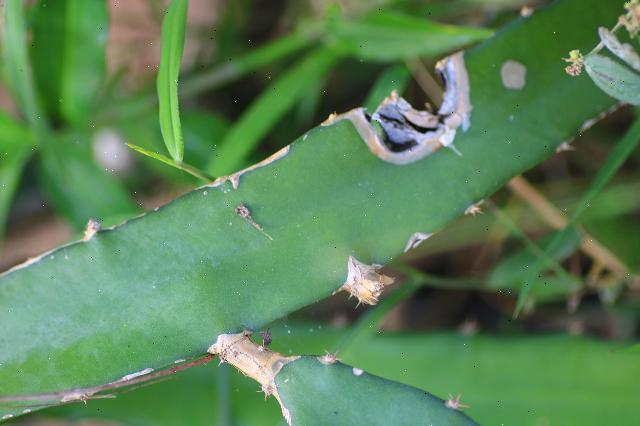stemcanker: (333, 43, 480, 172), (200, 320, 295, 414)
